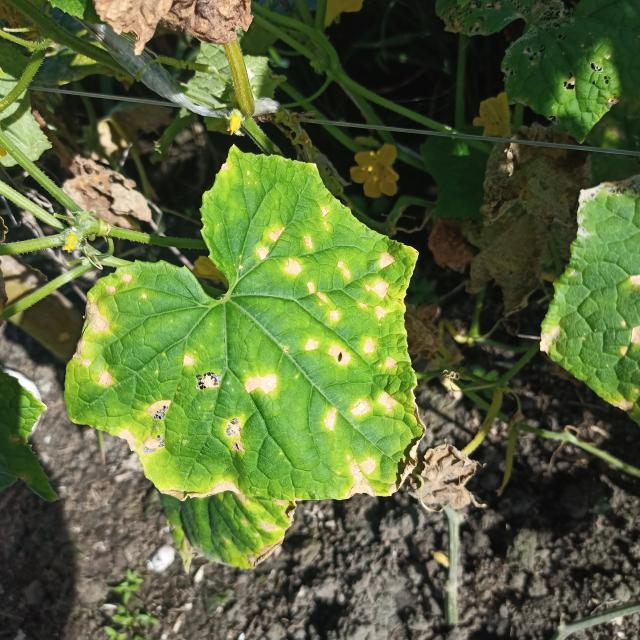disease_cucumber: (78, 201, 407, 500)
